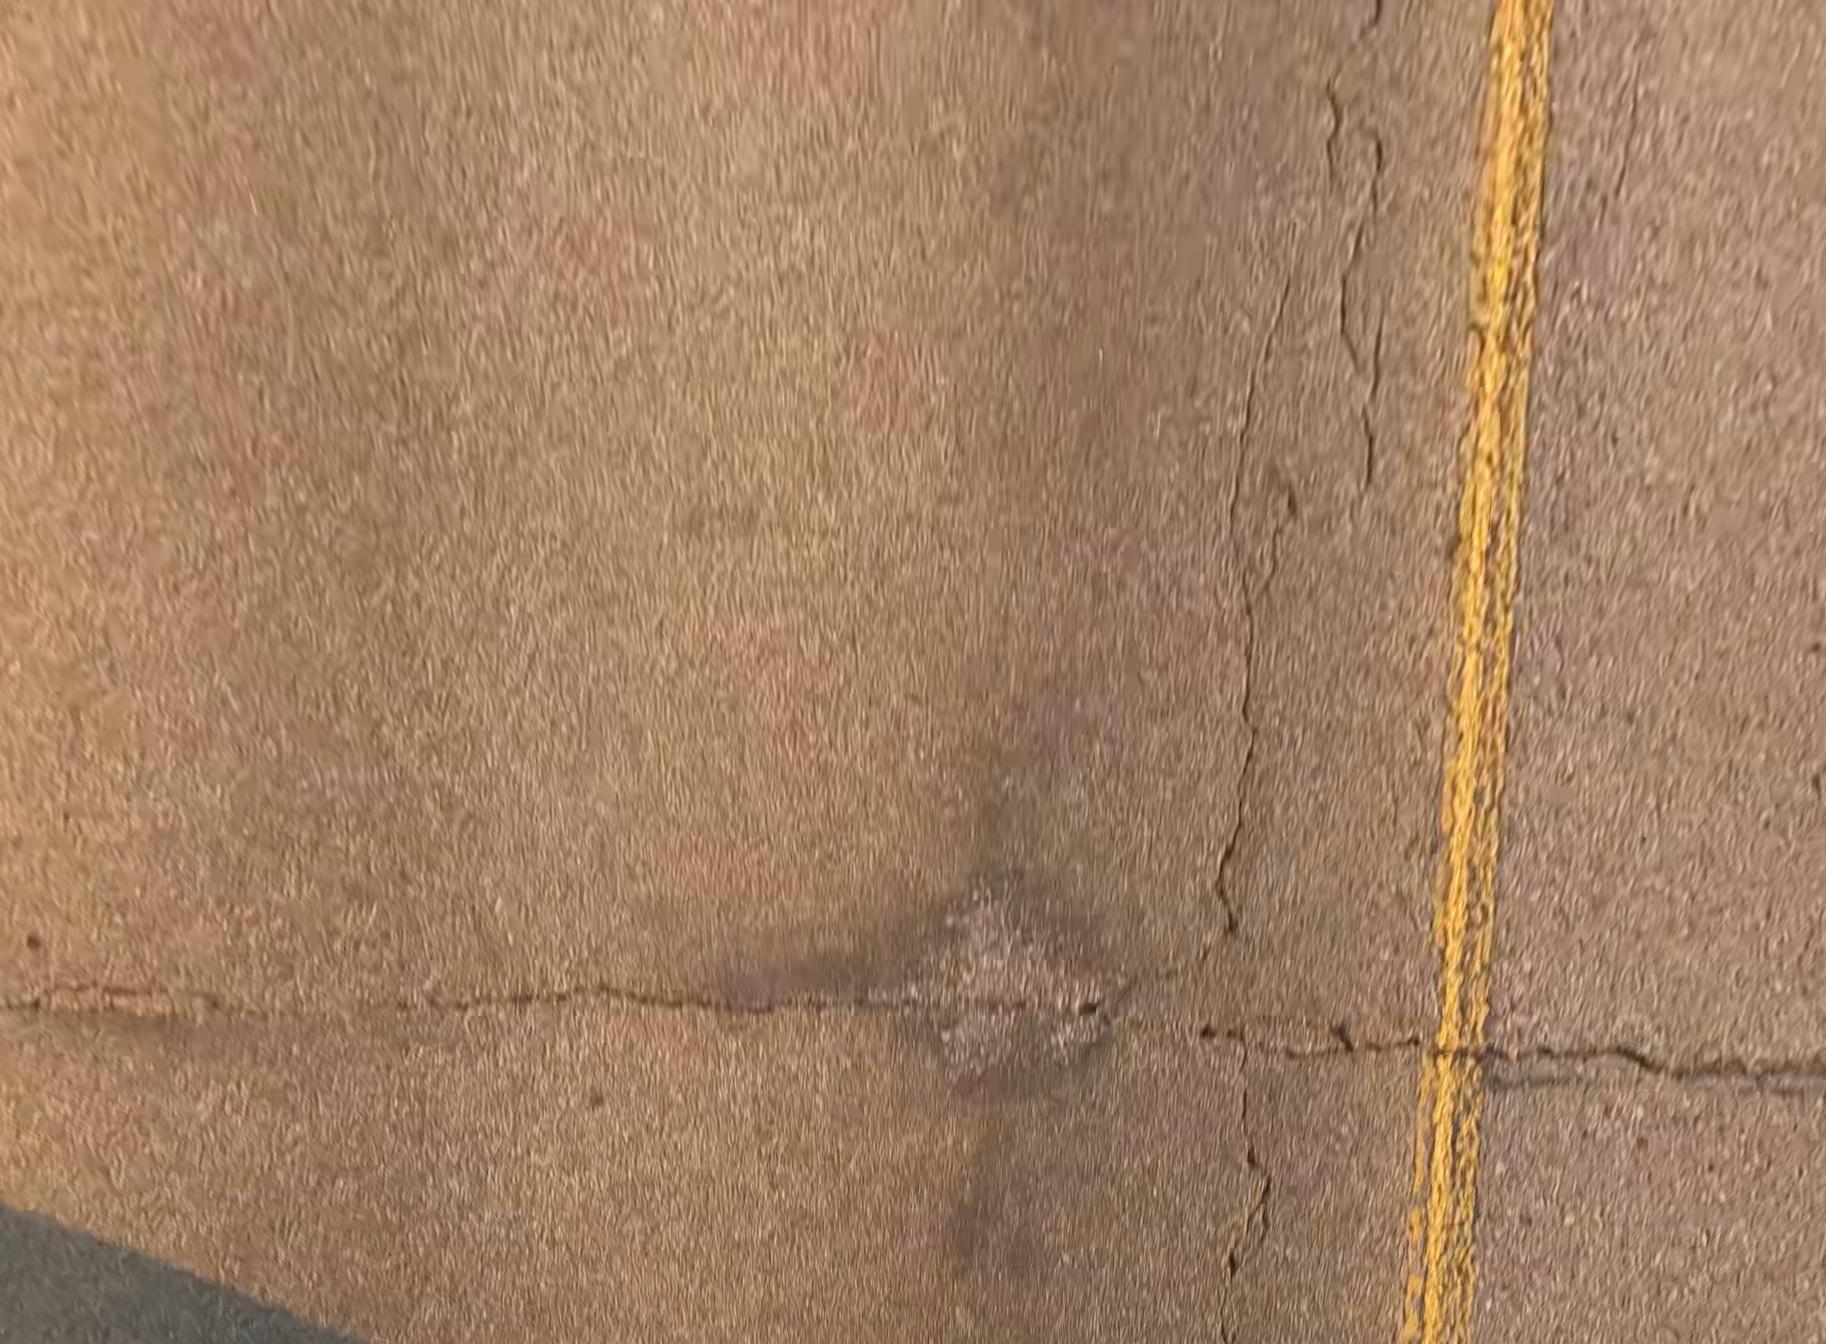pothole_patch_poor: (904, 870, 1119, 1085)
